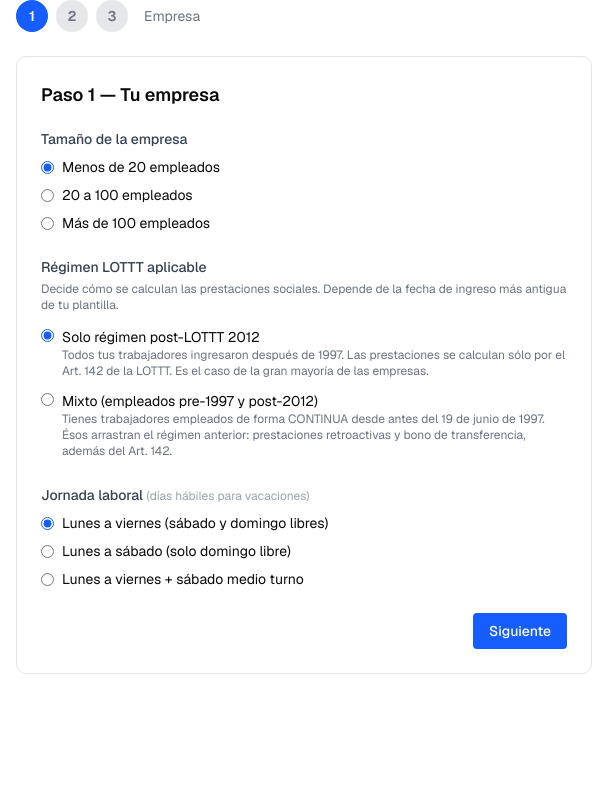
Test: PayrollWizard · paso 3 — los 17 selectores son AccountCombobox (SPEC-012 B2) › los pasos 1 y 2 NO tienen selectores de cuenta (el <select> de riesgo IVSS del paso 2 sigue nativo) — guarda verde
This screenshot has width=609, height=797.
Click the button "Siguiente".
click(520, 631)  # box [473,613,567,649]
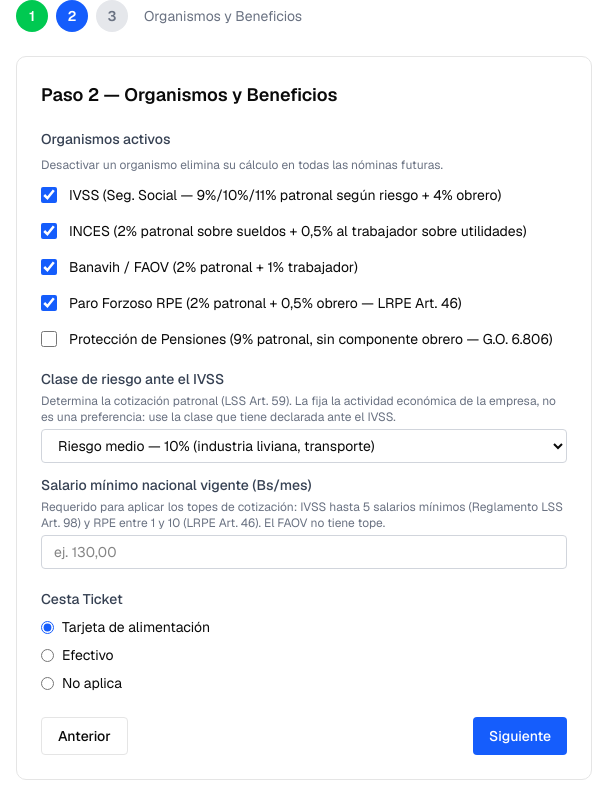
Result: the number of dropdowns is 1 at [41,429,567,463]
